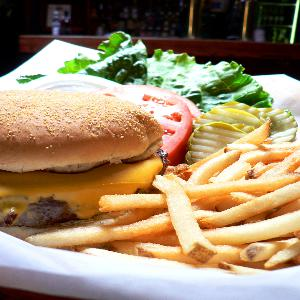cheeseburger_475cal: (3, 69, 167, 225)
fries_350cal: (177, 93, 300, 277)
